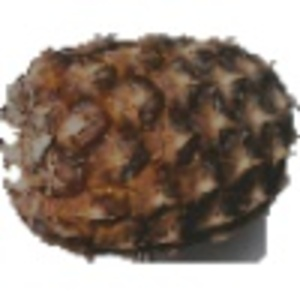abacaxi: (2, 28, 297, 253)
